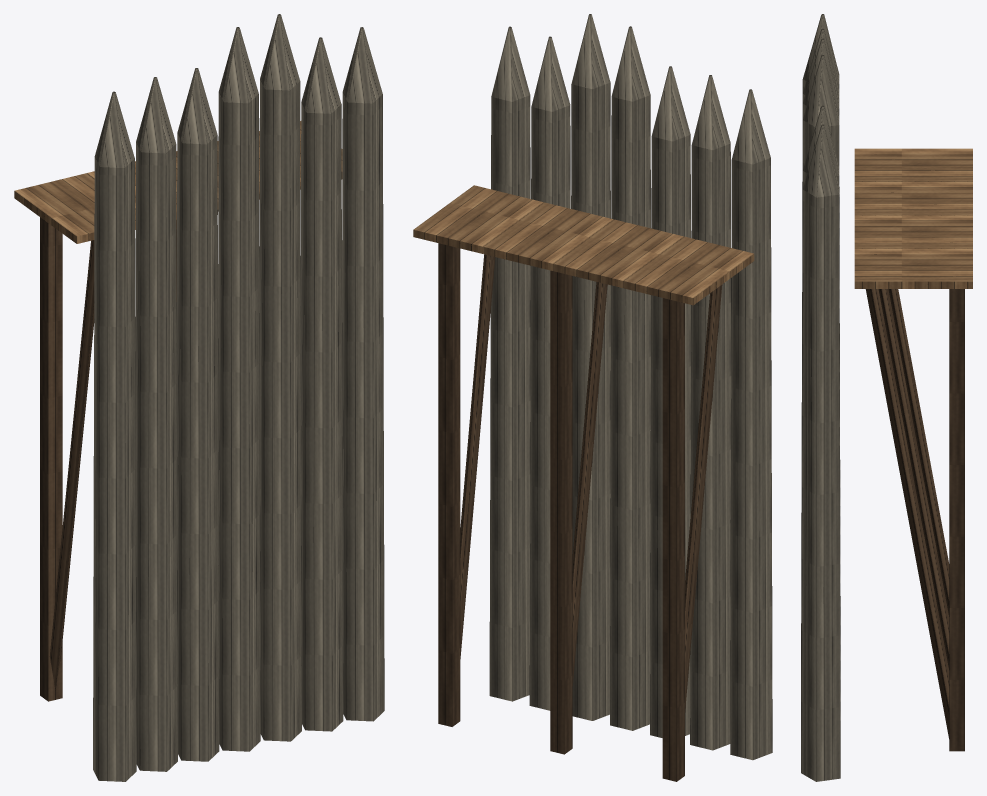
File: Palisade_Rampart_1_LOD1.gltf
The picture shows the model from 3 angles, left to right: view 1: azimuth 30°, elevation 25°; view 2: azimuth 150°, elevation 25°; view 3: azimuth 270°, elevation 25°; orthographic projection. The views are drawn at different scales.
Visible parts, largest first — view 1: Palisade_Rampart_1_LOD1; view 2: Palisade_Rampart_1_LOD1; view 3: Palisade_Rampart_1_LOD1.
Boxes of the visible parts, x1=… form: Palisade_Rampart_1_LOD1: x1=14, y1=14, x2=384, y2=781; Palisade_Rampart_1_LOD1: x1=413, y1=14, x2=772, y2=781; Palisade_Rampart_1_LOD1: x1=801, y1=14, x2=972, y2=781.
Bounding box in the file's own units: 3.99 × 9.5 × 2.18.
Materials: 3 (3 with a texture image).
